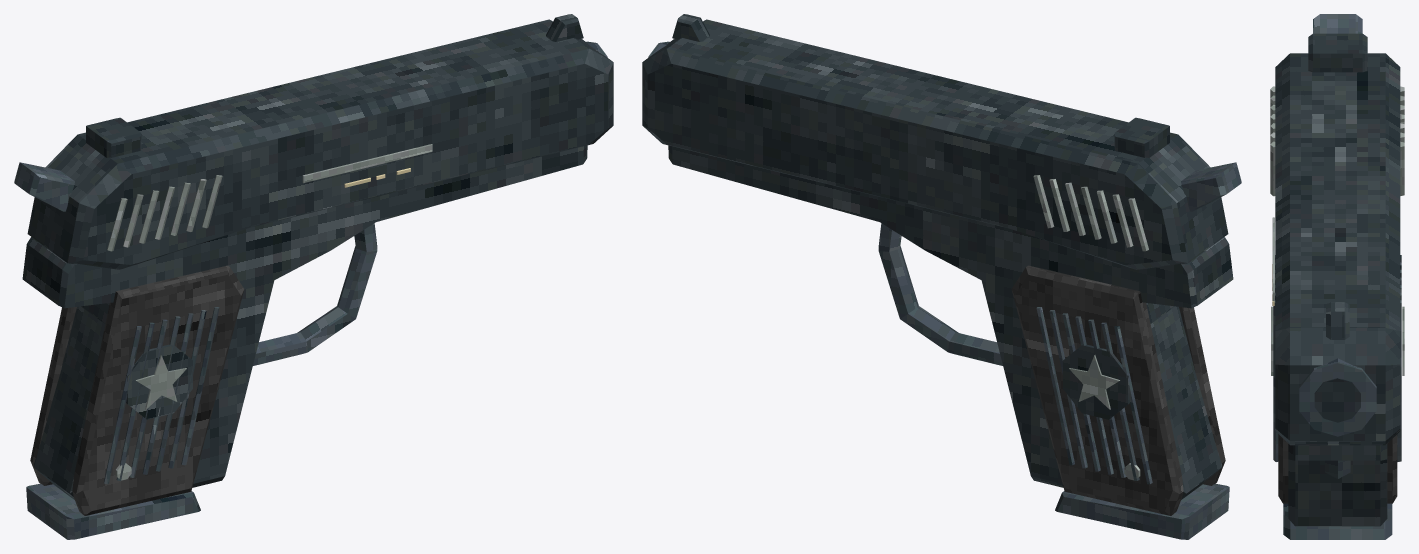
The model's file is 06_pistol_pt.glb.
3 renders of one model, left to right at view 1: azimuth 30°, elevation 25°; view 2: azimuth 150°, elevation 25°; view 3: azimuth 270°, elevation 25°, orthographic. The views are drawn at different scales.
Visible parts, largest first — view 1: 06_pistol_pt; view 2: 06_pistol_pt; view 3: 06_pistol_pt.
Part boxes in pixels (<box>): 06_pistol_pt: <box>14,14,613,539</box>; 06_pistol_pt: <box>642,14,1241,539</box>; 06_pistol_pt: <box>1270,14,1404,539</box>.
Size of the model in its own units: 0.2007 by 0.1275 by 0.0339.
Materials: 1 (1 with a texture image).
